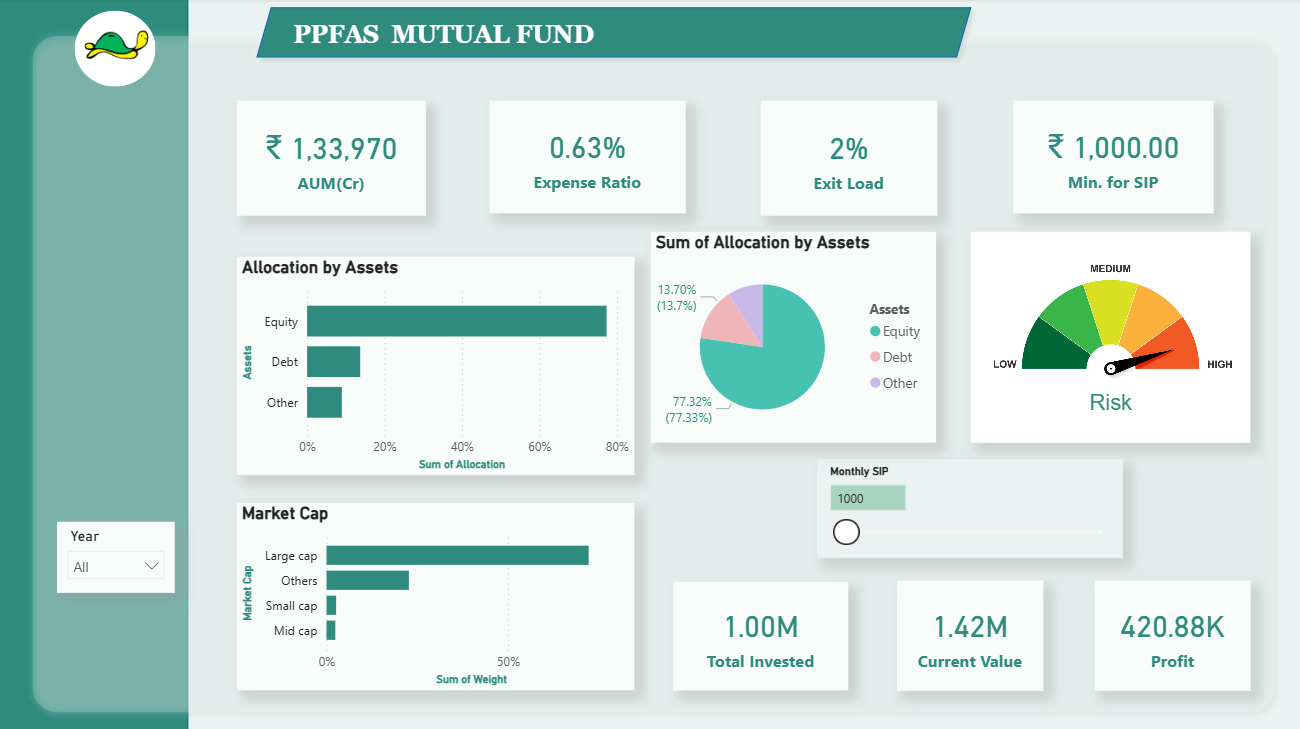

This screenshot's page, from the dashboard's own definition file:
{"tool":"powerbi","page":{"name":"Fundamentals","canvas":[1280,720],"ordinal":0},"visuals":[{"type":"shape","box":[0,0,187.1,720.2],"z":0},{"type":"shape","box":[25.7,28.1,1232.6,679.9],"z":1000},{"type":"shape","box":[244.6,0,717.8,67.3],"z":2000},{"type":"textbox","box":[284.9,17.1,368.1,40.4],"z":3000},{"type":"shape","box":[75.8,12.2,79.5,74.6],"z":4000},{"type":"image","box":[68.5,4.9,96.6,81.9],"z":5000},{"type":"card","fields":{"Values":["NAV_History.AUM:"]},"box":[234.8,100.3,184.6,112.5],"z":6000},{"type":"card","fields":{"Values":["NAV_History.Exit Load (%)"]},"box":[747.2,100.3,172.4,112.5],"z":7000},{"type":"card","fields":{"Values":["NAV_History.Expense Ratio"]},"box":[481.8,100.3,192,110.1],"z":8000},{"type":"card","fields":{"Values":["NAV_History.MIN Investment"]},"box":[994.2,100.3,195.7,110.1],"z":9000},{"type":"image","box":[952.6,228.7,273.9,206.7],"z":10000},{"type":"textbox","box":[1008.8,379.1,161.4,88],"z":11000},{"type":"barChart","title":"Allocation by Assets","fields":{"Category":["Assets Allocation.Assets"],"Y":["Sum(Assets Allocation.Allocation)"]},"box":[234.8,253.1,388.9,214],"z":12000},{"type":"slicer","fields":{"Values":["Monthly SIP.Monthly SIP"]},"box":[802.2,451.2,299.6,96.6],"z":13000},{"type":"card","fields":{"Values":["NAV_History.Total Invested"]},"box":[661.6,571.1,171.2,106.4],"z":14000},{"type":"card","fields":{"Values":["NAV_History.Current Value"]},"box":[880.4,569.8,143.1,107.6],"z":15000},{"type":"card","fields":{"Values":["NAV_History.Profit"]},"box":[1073.6,569.8,152.9,107.6],"z":16000},{"type":"barChart","title":"Market Cap","fields":{"Category":["Market Cap.Market Cap"],"Y":["Sum(Market Cap.Weight)"]},"box":[234.8,494,388.9,183.4],"z":17000},{"type":"pieChart","fields":{"Category":["Assets Allocation.Assets"],"Y":["Sum(Assets Allocation.Allocation)"]},"box":[651.8,228.7,278.8,206.7],"z":18000},{"type":"slicer","fields":{"Values":["NAV_History.Year"]},"box":[58.7,512.4,114.9,69.7],"z":19000}]}

Visuals, with their boxes in screenshot pixels (x1, y1, x2, y2), scaled from the page's 1280x720 canvas onto the 1300x729 screenshot:
shape: [0,0,190,728]
shape: [26,28,1278,717]
shape: [248,0,977,68]
textbox: [289,17,663,58]
shape: [77,12,158,88]
image: [70,5,168,88]
card - NAV_History.AUM:: [238,102,426,215]
card - NAV_History.Exit Load (%): [759,102,934,215]
card - NAV_History.Expense Ratio: [489,102,684,213]
card - NAV_History.MIN Investment: [1010,102,1208,213]
image: [967,232,1246,441]
textbox: [1025,384,1188,473]
"Allocation by Assets" barChart: [238,256,633,473]
slicer - Monthly SIP.Monthly SIP: [815,457,1119,555]
card - NAV_History.Total Invested: [672,578,846,686]
card - NAV_History.Current Value: [894,577,1039,686]
card - NAV_History.Profit: [1090,577,1246,686]
"Market Cap" barChart: [238,500,633,686]
pieChart - Assets Allocation.Assets x Sum(Assets Allocation.Allocation): [662,232,945,441]
slicer - NAV_History.Year: [60,519,176,589]
